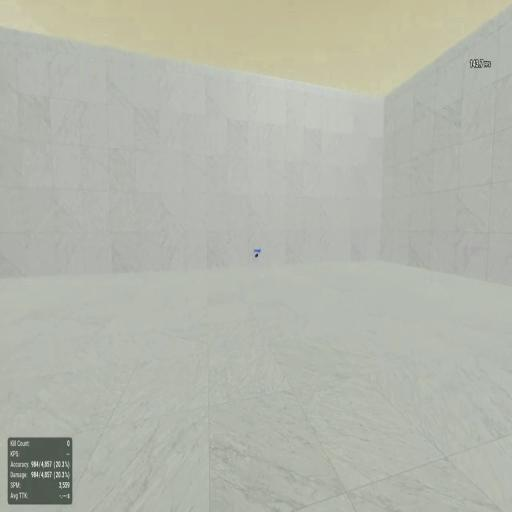Crosshair: (255, 254, 257, 258)
Target: (256, 254, 258, 258)
